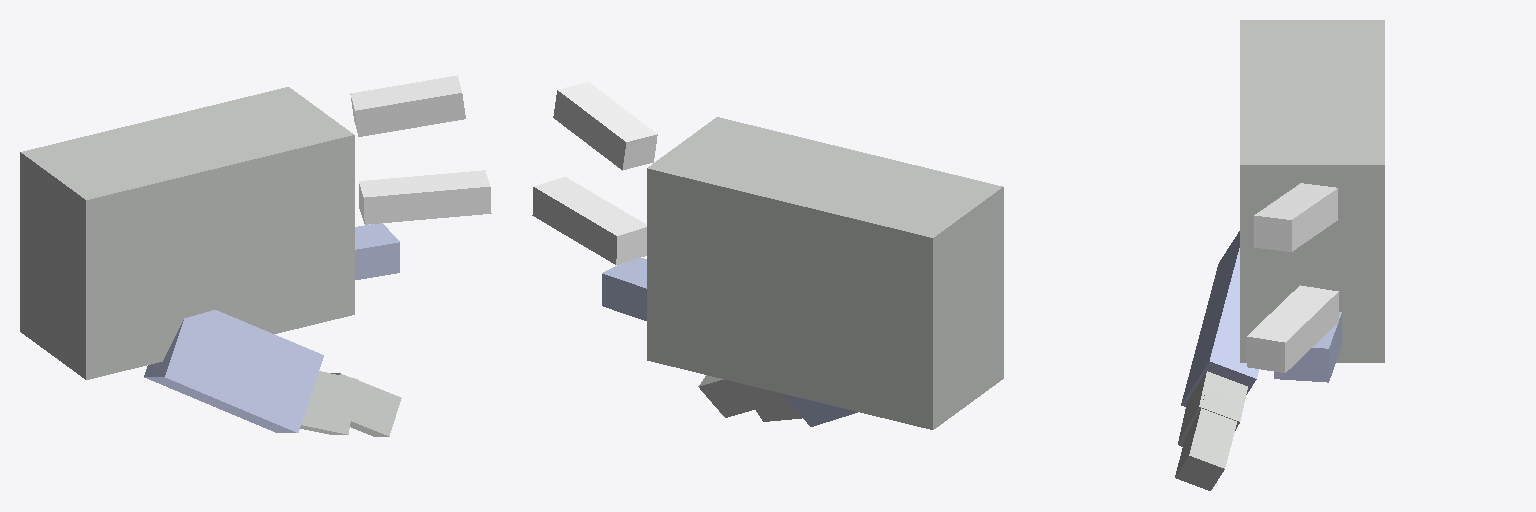
robot.urdf — urdf-five3:
<robot
  name="urdf-five3">
  <link
    name="Link111">
    <inertial>
      <origin
        xyz="0.0284046972660885 -0.00981060404810299 0.0222000386975785"
        rpy="0 0 0" />
      <mass
        value="0.22621959250221" />
      <inertia
        ixx="0.000161057742168925"
        ixy="-3.93039257205975E-06"
        ixz="-2.59552833985103E-06"
        iyy="0.000358621491446785"
        iyz="4.70540238948447E-06"
        izz="0.000257940666810454" />
    </inertial>
    <visual>
      <origin
        xyz="0 0 0"
        rpy="0 0 0" />
      <geometry>
        <mesh
          filename="package://urdf-five3/meshes/Link111.STL" />
      </geometry>
      <material
        name="">
        <color
          rgba="0.827450980392157 0.83921568627451 0.827450980392157 1" />
      </material>
    </visual>
    <collision>
      <origin
        xyz="0 0 0"
        rpy="0 0 0" />
      <geometry>
        <mesh
          filename="package://urdf-five3/meshes/Link111.STL" />
      </geometry>
    </collision>
  </link>
  <link
    name="Link1">
    <inertial>
      <origin
        xyz="0.0107729817589723 0.00213781834563882 -1.34009238303423E-07"
        rpy="0 0 0" />
      <mass
        value="0.00330620599604871" />
      <inertia
        ixx="1.55837657646135E-07"
        ixy="-3.78958094877833E-08"
        ixz="-5.07264353075226E-12"
        iyy="5.30383928507338E-07"
        iyz="-1.43523102869642E-12"
        izz="5.55164105212297E-07" />
    </inertial>
    <visual>
      <origin
        xyz="0 0 0"
        rpy="0 0 0" />
      <geometry>
        <mesh
          filename="package://urdf-five3/meshes/Link1.STL" />
      </geometry>
      <material
        name="">
        <color
          rgba="0.792156862745098 0.819607843137255 0.933333333333333 1" />
      </material>
    </visual>
    <collision>
      <origin
        xyz="0 0 0"
        rpy="0 0 0" />
      <geometry>
        <mesh
          filename="package://urdf-five3/meshes/Link1.STL" />
      </geometry>
    </collision>
  </link>
  <joint
    name="Link1"
    type="revolute">
    <origin
      xyz="0.08225 -0.0077547 -0.0040172"
      rpy="5.2178E-10 -6.245E-17 -0.14966" />
    <parent
      link="Link111" />
    <child
      link="Link1" />
    <axis
      xyz="0 0 1" />
    <limit
      lower="-1.6"
      upper="0"
      effort="1"
      velocity="1" />
  </joint>
  <link
    name="Link11">
    <inertial>
      <origin
        xyz="0.019017916514892 0.00563447754295066 1.90796464460963E-08"
        rpy="0 0 0" />
      <mass
        value="0.00453366822308025" />
      <inertia
        ixx="8.56969764665792E-08"
        ixy="-3.65502775787085E-08"
        ixz="2.02841411241907E-12"
        iyy="7.58232170757561E-07"
        iyz="6.07603435089188E-13"
        izz="7.68830975890361E-07" />
    </inertial>
    <visual>
      <origin
        xyz="0 0 0"
        rpy="0 0 0" />
      <geometry>
        <mesh
          filename="package://urdf-five3/meshes/Link11.STL" />
      </geometry>
      <material
        name="">
        <color
          rgba="1 1 1 1" />
      </material>
    </visual>
    <collision>
      <origin
        xyz="0 0 0"
        rpy="0 0 0" />
      <geometry>
        <mesh
          filename="package://urdf-five3/meshes/Link11.STL" />
      </geometry>
    </collision>
  </link>
  <joint
    name="Link11"
    type="revolute">
    <origin
      xyz="0.032132 0 0"
      rpy="-5.086E-10 -1.1653E-10 -0.22524" />
    <parent
      link="Link1" />
    <child
      link="Link11" />
    <axis
      xyz="0 0 1" />
    <limit
      lower="-1.7"
      upper="0"
      effort="1"
      velocity="1" />
  </joint>
  <link
    name="Link2">
    <inertial>
      <origin
        xyz="0.0107729781873397 0.00213783567195037 -1.14076048385314E-07"
        rpy="0 0 0" />
      <mass
        value="0.00330621565435093" />
      <inertia
        ixx="1.55837752420093E-07"
        ixy="-3.78955767951184E-08"
        ixz="-4.51740252002264E-12"
        iyy="5.30384784494186E-07"
        iyz="-1.08751322448059E-12"
        izz="5.55164342998361E-07" />
    </inertial>
    <visual>
      <origin
        xyz="0 0 0"
        rpy="0 0 0" />
      <geometry>
        <mesh
          filename="package://urdf-five3/meshes/Link2.STL" />
      </geometry>
      <material
        name="">
        <color
          rgba="0.792156862745098 0.819607843137255 0.933333333333333 1" />
      </material>
    </visual>
    <collision>
      <origin
        xyz="0 0 0"
        rpy="0 0 0" />
      <geometry>
        <mesh
          filename="package://urdf-five3/meshes/Link2.STL" />
      </geometry>
    </collision>
  </link>
  <joint
    name="Link2"
    type="revolute">
    <origin
      xyz="0.081939 -0.0077547 0.015305"
      rpy="0.0056158 -0.034452 -0.16161" />
    <parent
      link="Link111" />
    <child
      link="Link2" />
    <axis
      xyz="0 0 1" />
    <limit
      lower="-1.6"
      upper="0"
      effort="1"
      velocity="1" />
  </joint>
  <link
    name="Link22">
    <inertial>
      <origin
        xyz="0.0190179451505274 0.00563447968575673 1.97663586783137E-08"
        rpy="0 0 0" />
      <mass
        value="0.00453367017295165" />
      <inertia
        ixx="8.5696963969299E-08"
        ixy="-3.6550923619766E-08"
        ixz="1.59786933213099E-12"
        iyy="7.58233066456215E-07"
        iyz="6.81108952684927E-13"
        izz="7.68832070821997E-07" />
    </inertial>
    <visual>
      <origin
        xyz="0 0 0"
        rpy="0 0 0" />
      <geometry>
        <mesh
          filename="package://urdf-five3/meshes/Link22.STL" />
      </geometry>
      <material
        name="">
        <color
          rgba="1 1 1 1" />
      </material>
    </visual>
    <collision>
      <origin
        xyz="0 0 0"
        rpy="0 0 0" />
      <geometry>
        <mesh
          filename="package://urdf-five3/meshes/Link22.STL" />
      </geometry>
    </collision>
  </link>
  <joint
    name="Link22"
    type="revolute">
    <origin
      xyz="0.032132 0 0"
      rpy="-5.0853E-10 -1.1686E-10 -0.22588" />
    <parent
      link="Link2" />
    <child
      link="Link22" />
    <axis
      xyz="0 0 1" />
    <limit
      lower="-1.7"
      upper="0"
      effort="1"
      velocity="1" />
  </joint>
  <link
    name="Link3">
    <inertial>
      <origin
        xyz="0.0107730930654459 0.00213783260244832 -8.57328914740003E-08"
        rpy="0 0 0" />
      <mass
        value="0.0033061482917439" />
      <inertia
        ixx="1.55835970052989E-07"
        ixy="-3.78956285985318E-08"
        ixz="-3.98553229256186E-12"
        iyy="5.30379079243718E-07"
        iyz="-6.32137439938121E-13"
        izz="5.5516012983777E-07" />
    </inertial>
    <visual>
      <origin
        xyz="0 0 0"
        rpy="0 0 0" />
      <geometry>
        <mesh
          filename="package://urdf-five3/meshes/Link3.STL" />
      </geometry>
      <material
        name="">
        <color
          rgba="0.792156862745098 0.819607843137255 0.933333333333333 1" />
      </material>
    </visual>
    <collision>
      <origin
        xyz="0 0 0"
        rpy="0 0 0" />
      <geometry>
        <mesh
          filename="package://urdf-five3/meshes/Link3.STL" />
      </geometry>
    </collision>
  </link>
  <joint
    name="Link3"
    type="revolute">
    <origin
      xyz="0.080765 -0.0077547 0.034505"
      rpy="0.010408 -0.086645 -0.11971" />
    <parent
      link="Link111" />
    <child
      link="Link3" />
    <axis
      xyz="0 0 1" />
    <limit
      lower="-1.6"
      upper="0"
      effort="1"
      velocity="1" />
  </joint>
  <link
    name="Link33">
    <inertial>
      <origin
        xyz="0.01901789870244 0.00563447090562313 1.70050325960271E-08"
        rpy="0 0 0" />
      <mass
        value="0.00453366652527048" />
      <inertia
        ixx="8.56969335058099E-08"
        ixy="-3.65501984156752E-08"
        ixz="1.30339239962579E-12"
        iyy="7.58232117591424E-07"
        iyz="7.47249892192207E-13"
        izz="7.68830949295352E-07" />
    </inertial>
    <visual>
      <origin
        xyz="0 0 0"
        rpy="0 0 0" />
      <geometry>
        <mesh
          filename="package://urdf-five3/meshes/Link33.STL" />
      </geometry>
      <material
        name="">
        <color
          rgba="1 1 1 1" />
      </material>
    </visual>
    <collision>
      <origin
        xyz="0 0 0"
        rpy="0 0 0" />
      <geometry>
        <mesh
          filename="package://urdf-five3/meshes/Link33.STL" />
      </geometry>
    </collision>
  </link>
  <joint
    name="Link33"
    type="revolute">
    <origin
      xyz="0.032132 0 0"
      rpy="-5.0314E-10 -1.3824E-10 -0.26815" />
    <parent
      link="Link3" />
    <child
      link="Link33" />
    <axis
      xyz="0 0 1" />
    <limit
      lower="-1.7"
      upper="0"
      effort="1"
      velocity="1" />
  </joint>
  <link
    name="Link4">
    <inertial>
      <origin
        xyz="0.0107729931213964 0.00213782731321216 -7.95186542376647E-08"
        rpy="0 0 0" />
      <mass
        value="0.00330620800050046" />
      <inertia
        ixx="1.55837389573248E-07"
        ixy="-3.78958987950181E-08"
        ixz="-3.73884747536307E-12"
        iyy="5.30384597648764E-07"
        iyz="-3.63224479792676E-13"
        izz="5.55163794949727E-07" />
    </inertial>
    <visual>
      <origin
        xyz="0 0 0"
        rpy="0 0 0" />
      <geometry>
        <mesh
          filename="package://urdf-five3/meshes/Link4.STL" />
      </geometry>
      <material
        name="">
        <color
          rgba="0.792156862745098 0.819607843137255 0.933333333333333 1" />
      </material>
    </visual>
    <collision>
      <origin
        xyz="0 0 0"
        rpy="0 0 0" />
      <geometry>
        <mesh
          filename="package://urdf-five3/meshes/Link4.STL" />
      </geometry>
    </collision>
  </link>
  <joint
    name="Link4"
    type="revolute">
    <origin
      xyz="0.078587 -0.0077547 0.053617"
      rpy="0.022524 -0.13781 -0.16255" />
    <parent
      link="Link111" />
    <child
      link="Link4" />
    <axis
      xyz="0 0 1" />
    <limit
      lower="-1.6"
      upper="0"
      effort="1"
      velocity="1" />
  </joint>
  <link
    name="Link44">
    <inertial>
      <origin
        xyz="0.0155924853997512 0.00555619186912998 -1.21775195708468E-07"
        rpy="0 0 0" />
      <mass
        value="0.00356886192445218" />
      <inertia
        ixx="6.67767175628229E-08"
        ixy="-2.70385196277176E-08"
        ixz="-4.60032318294332E-12"
        iyy="4.33416353432936E-07"
        iyz="-1.36538016248102E-12"
        izz="4.39760949009649E-07" />
    </inertial>
    <visual>
      <origin
        xyz="0 0 0"
        rpy="0 0 0" />
      <geometry>
        <mesh
          filename="package://urdf-five3/meshes/Link44.STL" />
      </geometry>
      <material
        name="">
        <color
          rgba="1 1 1 1" />
      </material>
    </visual>
    <collision>
      <origin
        xyz="0 0 0"
        rpy="0 0 0" />
      <geometry>
        <mesh
          filename="package://urdf-five3/meshes/Link44.STL" />
      </geometry>
    </collision>
  </link>
  <joint
    name="Link44"
    type="revolute">
    <origin
      xyz="0.032132 0 0"
      rpy="-5.0686E-10 -1.2389E-10 -0.23972" />
    <parent
      link="Link4" />
    <child
      link="Link44" />
    <axis
      xyz="0 0 1" />
    <limit
      lower="-1.7"
      upper="0"
      effort="1"
      velocity="1" />
  </joint>
  <link
    name="Link5">
    <inertial>
      <origin
        xyz="-0.000668287872925624 -0.00209320996353089 0.0037633441647693"
        rpy="0 0 0" />
      <mass
        value="0.00487390663164139" />
      <inertia
        ixx="1.30408513803687E-07"
        ixy="-8.92030281859617E-09"
        ixz="-1.7660325194859E-08"
        iyy="1.70578986810531E-07"
        iyz="-1.02749399337787E-09"
        izz="2.1170907785655E-07" />
    </inertial>
    <visual>
      <origin
        xyz="0 0 0"
        rpy="0 0 0" />
      <geometry>
        <mesh
          filename="package://urdf-five3/meshes/Link5.STL" />
      </geometry>
      <material
        name="">
        <color
          rgba="0.827450980392157 0.83921568627451 0.827450980392157 1" />
      </material>
    </visual>
    <collision>
      <origin
        xyz="0 0 0"
        rpy="0 0 0" />
      <geometry>
        <mesh
          filename="package://urdf-five3/meshes/Link5.STL" />
      </geometry>
    </collision>
  </link>
  <joint
    name="Link5"
    type="revolute">
    <origin
      xyz="0.0089225 -0.022949 -0.00699"
      rpy="0.092365 1.1827 -1.4853" />
    <parent
      link="Link111" />
    <child
      link="Link5" />
    <axis
      xyz="0 1 0" />
    <limit
      lower="-1.2"
      upper="0.3"
      effort="1"
      velocity="1" />
  </joint>
  <link
    name="Link51">
    <inertial>
      <origin
        xyz="0.0261732090129406 0.00353701767650547 -1.92601341111875E-07"
        rpy="0 0 0" />
      <mass
        value="0.00652729219675812" />
      <inertia
        ixx="8.93817123585481E-07"
        ixy="6.28368840765271E-08"
        ixz="-2.00458419649248E-11"
        iyy="2.37370603240555E-06"
        iyz="-1.67466441559282E-12"
        izz="2.75021956933668E-06" />
    </inertial>
    <visual>
      <origin
        xyz="0 0 0"
        rpy="0 0 0" />
      <geometry>
        <mesh
          filename="package://urdf-five3/meshes/Link51.STL" />
      </geometry>
      <material
        name="">
        <color
          rgba="0.792156862745098 0.819607843137255 0.933333333333333 1" />
      </material>
    </visual>
    <collision>
      <origin
        xyz="0 0 0"
        rpy="0 0 0" />
      <geometry>
        <mesh
          filename="package://urdf-five3/meshes/Link51.STL" />
      </geometry>
    </collision>
  </link>
  <joint
    name="Link51"
    type="revolute">
    <origin
      xyz="0.0065 -0.0035 0.00425"
      rpy="3.1416 -5.2736E-16 0.96726" />
    <parent
      link="Link5" />
    <child
      link="Link51" />
    <axis
      xyz="0 0 -1" />
    <limit
      lower="0"
      upper="0.4"
      effort="1"
      velocity="1" />
  </joint>
  <link
    name="Link52">
    <inertial>
      <origin
        xyz="-0.007316119869056 -0.00552223433089214 2.14610152510231E-07"
        rpy="0 0 0" />
      <mass
        value="0.0022695308360543" />
      <inertia
        ixx="1.7281059843115E-07"
        ixy="4.52282139518593E-08"
        ixz="-2.88816078436063E-12"
        iyy="2.78046552011382E-07"
        iyz="7.05843881266438E-13"
        izz="2.99630657437474E-07" />
    </inertial>
    <visual>
      <origin
        xyz="0 0 0"
        rpy="0 0 0" />
      <geometry>
        <mesh
          filename="package://urdf-five3/meshes/Link52.STL" />
      </geometry>
      <material
        name="">
        <color
          rgba="0.827450980392157 0.83921568627451 0.827450980392157 1" />
      </material>
    </visual>
    <collision>
      <origin
        xyz="0 0 0"
        rpy="0 0 0" />
      <geometry>
        <mesh
          filename="package://urdf-five3/meshes/Link52.STL" />
      </geometry>
    </collision>
  </link>
  <joint
    name="Link52"
    type="revolute">
    <origin
      xyz="0.056001 0 0"
      rpy="0 -1.3878E-16 2.9661" />
    <parent
      link="Link51" />
    <child
      link="Link52" />
    <axis
      xyz="0 0 1" />
    <limit
      lower="-0.4"
      upper="0"
      effort="1"
      velocity="1" />
  </joint>
  <link
    name="Link53">
    <inertial>
      <origin
        xyz="-3.3937612879259E-06 0.0106230303829815 0.000584861433263272"
        rpy="0 0 0" />
      <mass
        value="0.00330869751403717" />
      <inertia
        ixx="1.96169236089202E-07"
        ixy="-1.43223823727531E-10"
        ixz="5.64113109591019E-11"
        iyy="8.67914197835909E-08"
        iyz="2.46315104630635E-08"
        izz="1.85481756939709E-07" />
    </inertial>
    <visual>
      <origin
        xyz="0 0 0"
        rpy="0 0 0" />
      <geometry>
        <mesh
          filename="package://urdf-five3/meshes/Link53.STL" />
      </geometry>
      <material
        name="">
        <color
          rgba="0.827450980392157 0.83921568627451 0.827450980392157 1" />
      </material>
    </visual>
    <collision>
      <origin
        xyz="0 0 0"
        rpy="0 0 0" />
      <geometry>
        <mesh
          filename="package://urdf-five3/meshes/Link53.STL" />
      </geometry>
    </collision>
  </link>
  <joint
    name="Link53"
    type="revolute">
    <origin
      xyz="-0.022653 0 0"
      rpy="1.7291 -1.5708 0" />
    <parent
      link="Link52" />
    <child
      link="Link53" />
    <axis
      xyz="1 0 0" />
    <limit
      lower="-1"
      upper="0"
      effort="1"
      velocity="1" />
  </joint>
</robot>

--- Facts derived from the render (not from the file) ---
Views: 3 orthographic renders of the robot side by side, from view 1: azimuth 30°, elevation 25°; view 2: azimuth 150°, elevation 25°; view 3: azimuth 270°, elevation 25°.
Model urdf-five3 with 13 links and 12 joints (12 revolute), rooted at Link111, posed every joint at zero.
Visible links, largest first — view 1: Link111, Link51, Link22, Link44, Link52, Link1, Link53; view 2: Link111, Link22, Link44, Link1, Link53, Link52, Link51; view 3: Link111, Link22, Link51, Link44, Link53, Link1, Link52.
Boxes of the visible links, bbox=[...] form: Link111: bbox=[20, 87, 354, 379]; Link51: bbox=[144, 310, 323, 432]; Link22: bbox=[359, 170, 491, 224]; Link44: bbox=[350, 75, 465, 136]; Link52: bbox=[300, 371, 357, 434]; Link1: bbox=[355, 223, 399, 279]; Link53: bbox=[331, 373, 401, 436]; Link111: bbox=[647, 117, 1003, 429]; Link22: bbox=[532, 177, 646, 264]; Link44: bbox=[553, 82, 657, 170]; Link1: bbox=[602, 258, 646, 320]; Link53: bbox=[698, 375, 754, 417]; Link52: bbox=[736, 382, 801, 421]; Link51: bbox=[781, 393, 857, 426]; Link111: bbox=[1240, 20, 1384, 362]; Link22: bbox=[1247, 285, 1338, 372]; Link51: bbox=[1181, 231, 1259, 406]; Link44: bbox=[1254, 183, 1337, 251]; Link53: bbox=[1175, 392, 1241, 490]; Link1: bbox=[1274, 312, 1341, 382]; Link52: bbox=[1178, 371, 1247, 446].
Size in the robot's own frame: 0.2021 by 0.0795 by 0.14 metres.
8 mesh visuals loaded from 13 distinct referenced files (8 binary STL); not drawn: 5 (reference not matched to a file when rendering).